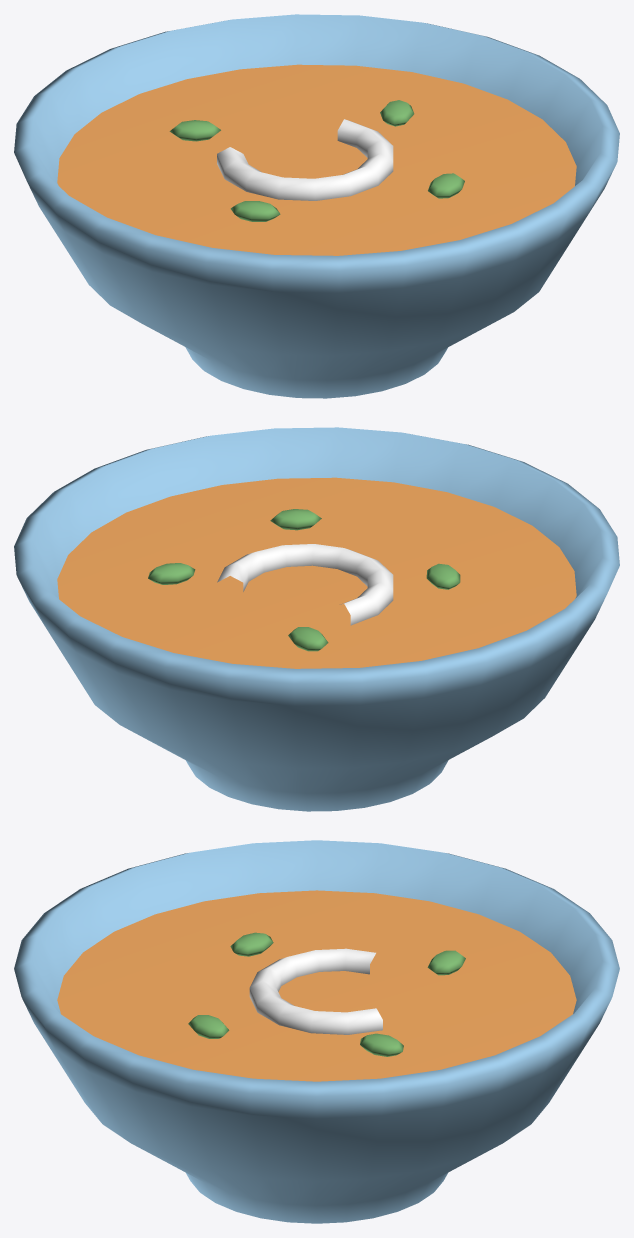
Rendered from food_soup.glb.
The picture shows the model from 3 angles, top to bottom: view 1: azimuth 30°, elevation 25°; view 2: azimuth 150°, elevation 25°; view 3: azimuth 270°, elevation 25°; orthographic projection.
Parts seen in each view (by area): view 1: PumpkinSoup; view 2: PumpkinSoup; view 3: PumpkinSoup.
Boxes of the visible parts, box(x1,y1,x2,y2) form: PumpkinSoup: box(14, 14, 619, 398); PumpkinSoup: box(14, 427, 619, 811); PumpkinSoup: box(14, 840, 619, 1223).
Size of the model in its own units: 0.28 by 0.106 by 0.28.
